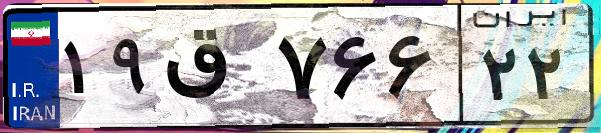1: (57, 26, 110, 100)
2: (475, 38, 525, 113), (525, 38, 570, 115)
6: (385, 28, 445, 110), (330, 28, 385, 110)
7: (270, 28, 330, 110)
9: (110, 28, 158, 98)
ق: (158, 20, 270, 120)
